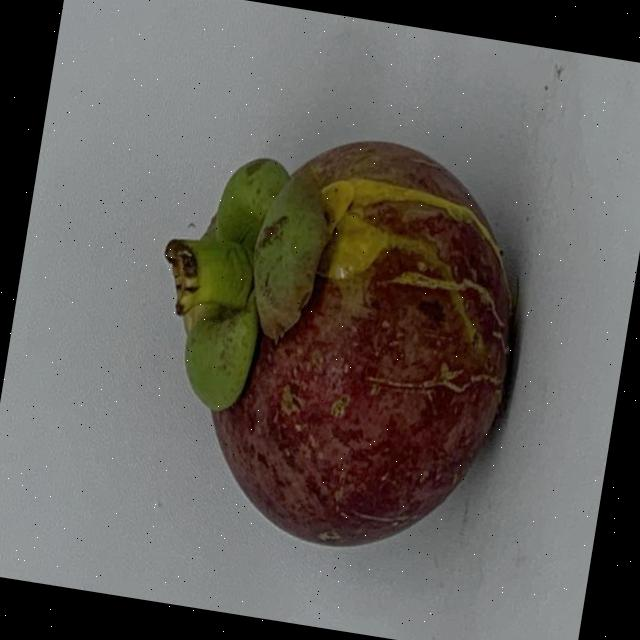mangosteen: (84, 92, 538, 572)
